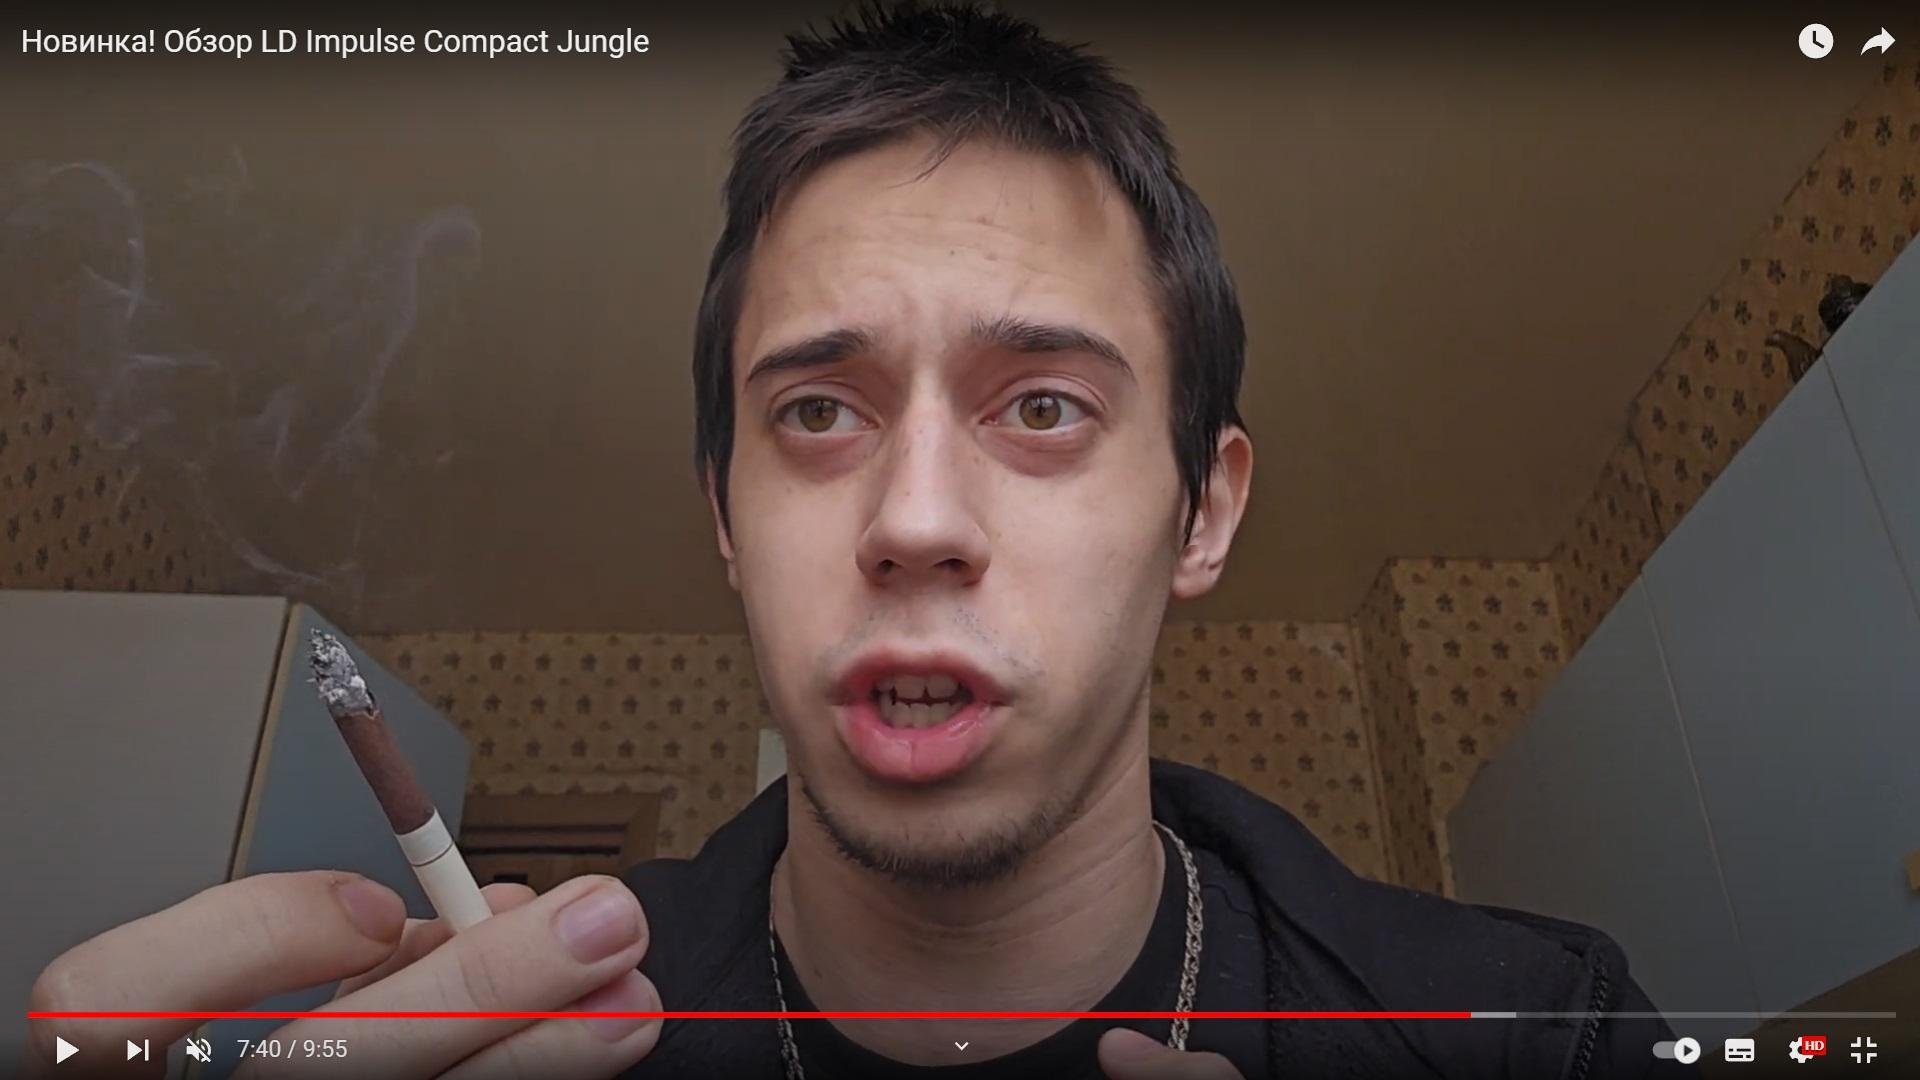cigarette: (309, 625, 493, 939)
